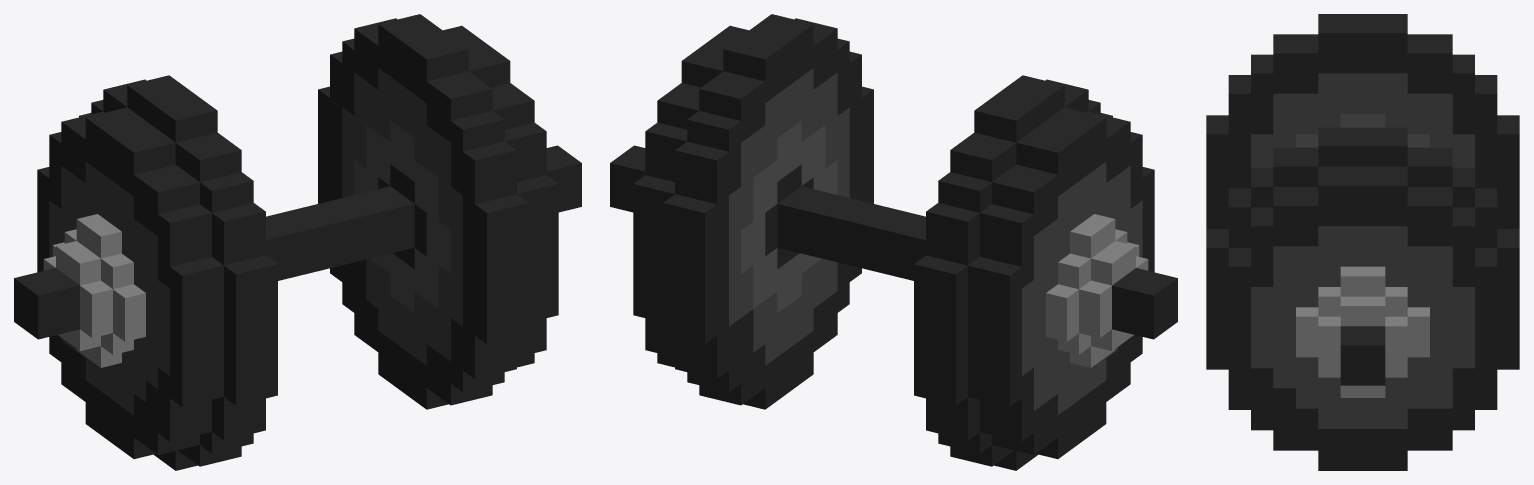
The model's file is Dumbbell.obj.
3 views of the same model, side by side, from view 1: azimuth 30°, elevation 25°; view 2: azimuth 150°, elevation 25°; view 3: azimuth 270°, elevation 25° (orthographic). The views are drawn at different scales.
Bounding box in the file's own units: 2.6 × 1.6 × 1.4.
1 material, 1 textured.
